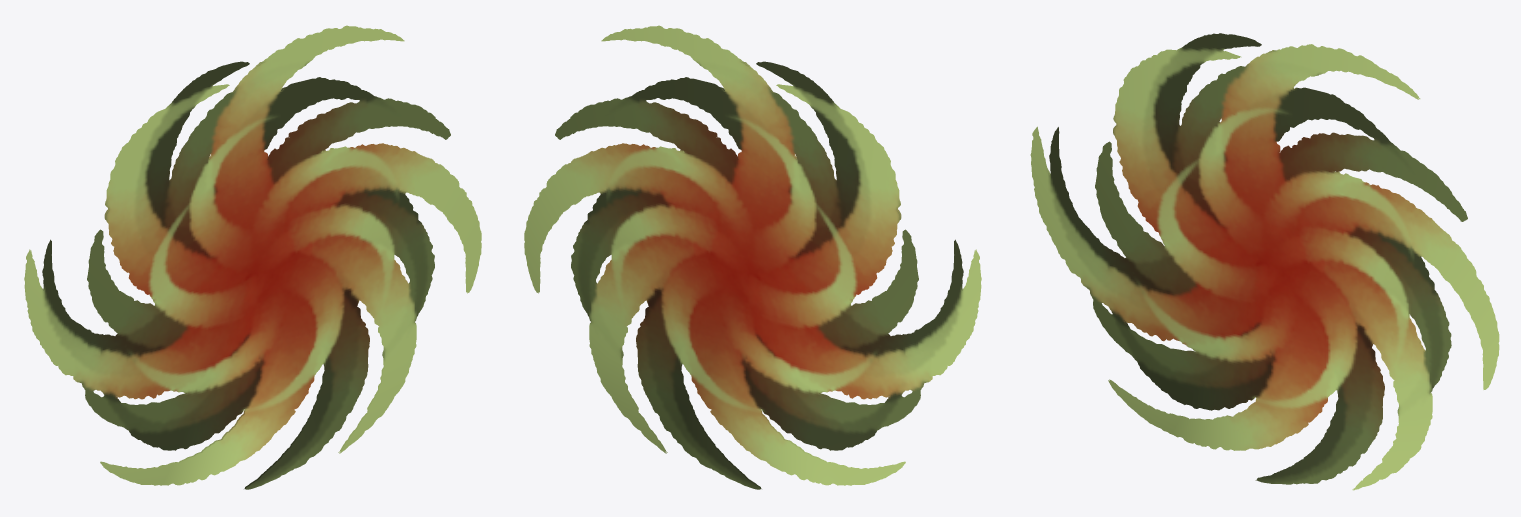
The model's file is painted-weed-061.glb.
3 renders of one model, left to right at view 1: azimuth 30°, elevation 25°; view 2: azimuth 150°, elevation 25°; view 3: azimuth 330°, elevation 25°, orthographic. The views are drawn at different scales.
Size of the model in its own units: 7.47 by 7.1 by 0.03.
1 material, 1 textured.
